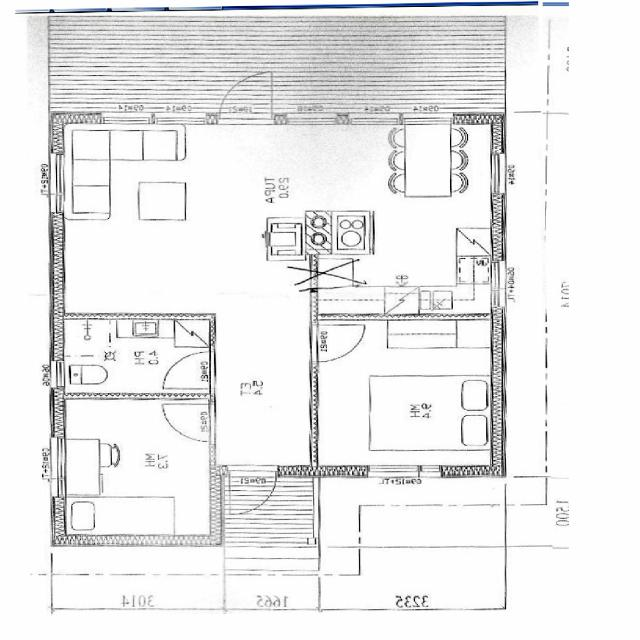door: (220, 71, 272, 124), (230, 466, 276, 514), (163, 351, 217, 389), (164, 404, 217, 441), (311, 325, 363, 361)
